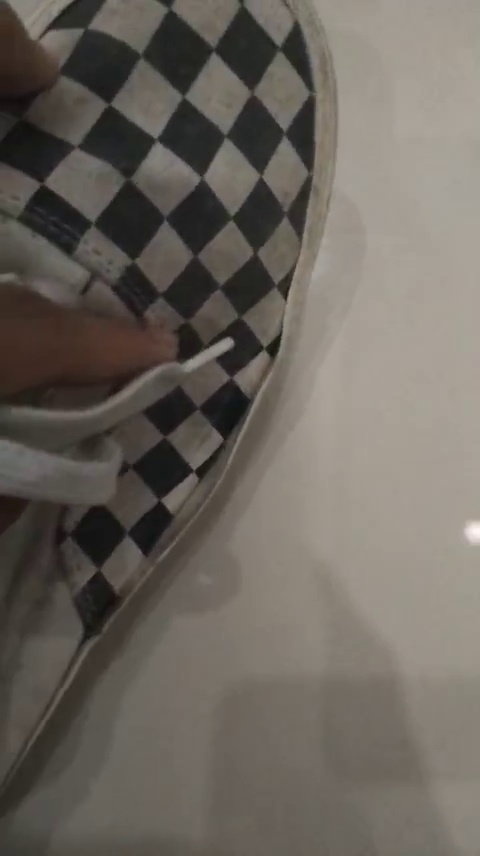bonding: (124, 355, 293, 600)
